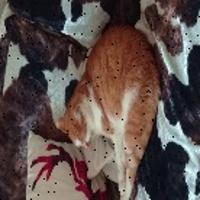asleep: (55, 24, 159, 200)
